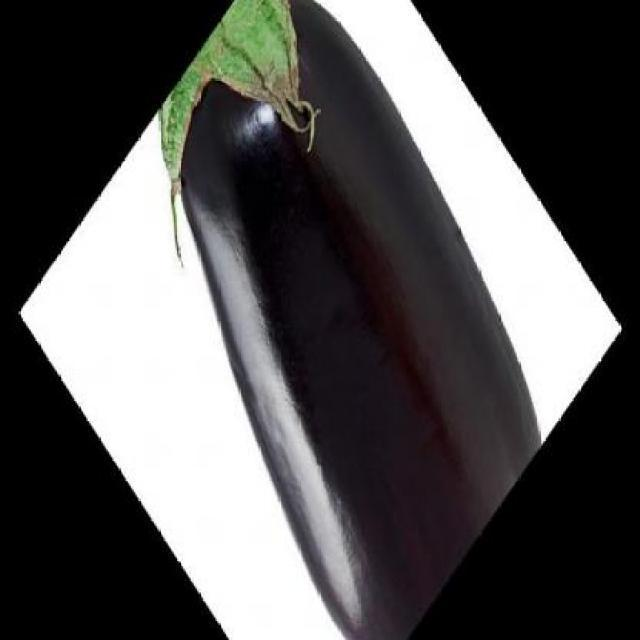eggplant: (78, 0, 581, 638)
